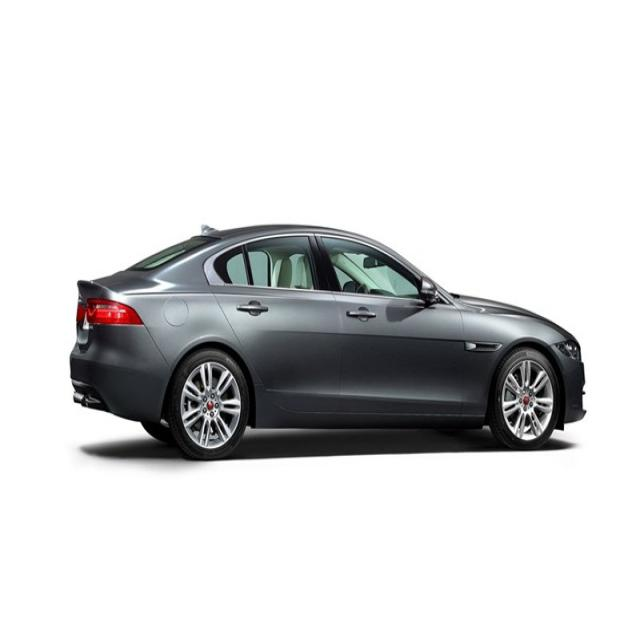back_right_side_light: (85, 295, 143, 327)
door: (204, 229, 346, 436)
front_bumper: (558, 360, 590, 431)
front_right_side_door: (313, 230, 467, 422)
front_right_side_light: (552, 334, 583, 365)
front_right_side_mirror: (418, 274, 438, 308)
rear_bumper: (69, 326, 170, 423)
wheel: (170, 352, 248, 460), (492, 348, 558, 450)
